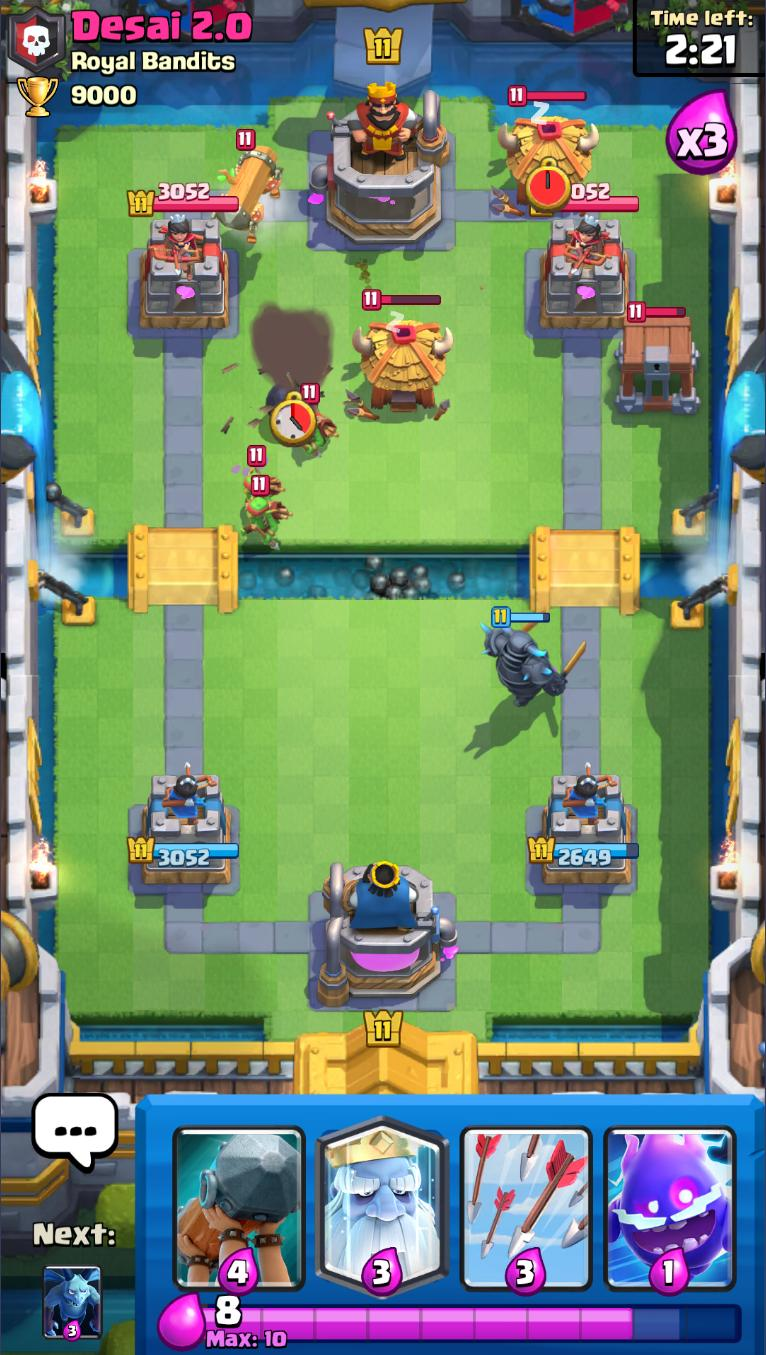ArrowDeck: (454, 1097, 600, 1294)
BattleRam: (216, 129, 284, 245)
BattleRamDeck: (165, 1096, 307, 1295)
ElectroSpiritDeck: (600, 1097, 744, 1294)
Elixir: (202, 1295, 745, 1352)
EnemyTower: (137, 214, 231, 333), (538, 214, 632, 331)
GoblinCage: (612, 302, 703, 412)
GoblinHut: (496, 85, 607, 207), (349, 289, 452, 414)
KingTower: (309, 80, 454, 248)
MinionsNext: (43, 1263, 103, 1344)
MyKingTower: (318, 855, 460, 1009)
MyPekka: (478, 605, 585, 710)
MyPrincessTower: (526, 768, 642, 889), (126, 772, 242, 887)
MyPrincessTowerHP: (127, 833, 241, 869), (526, 835, 641, 867)
PrincessTower: (549, 214, 604, 275), (152, 214, 202, 273)
RoyaleGhostDeck: (311, 1097, 454, 1295)
SpearGoblin: (238, 477, 290, 556), (298, 382, 340, 459), (237, 447, 285, 511)
TowerPrincessHP: (127, 180, 241, 217), (527, 181, 640, 216)
